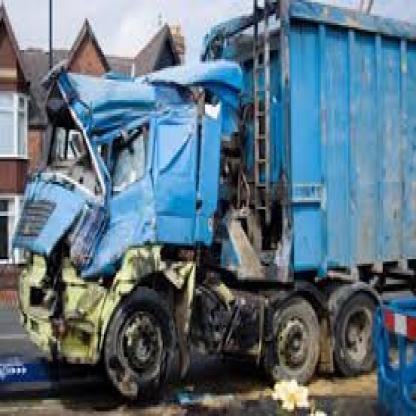accident: (14, 2, 416, 402)
